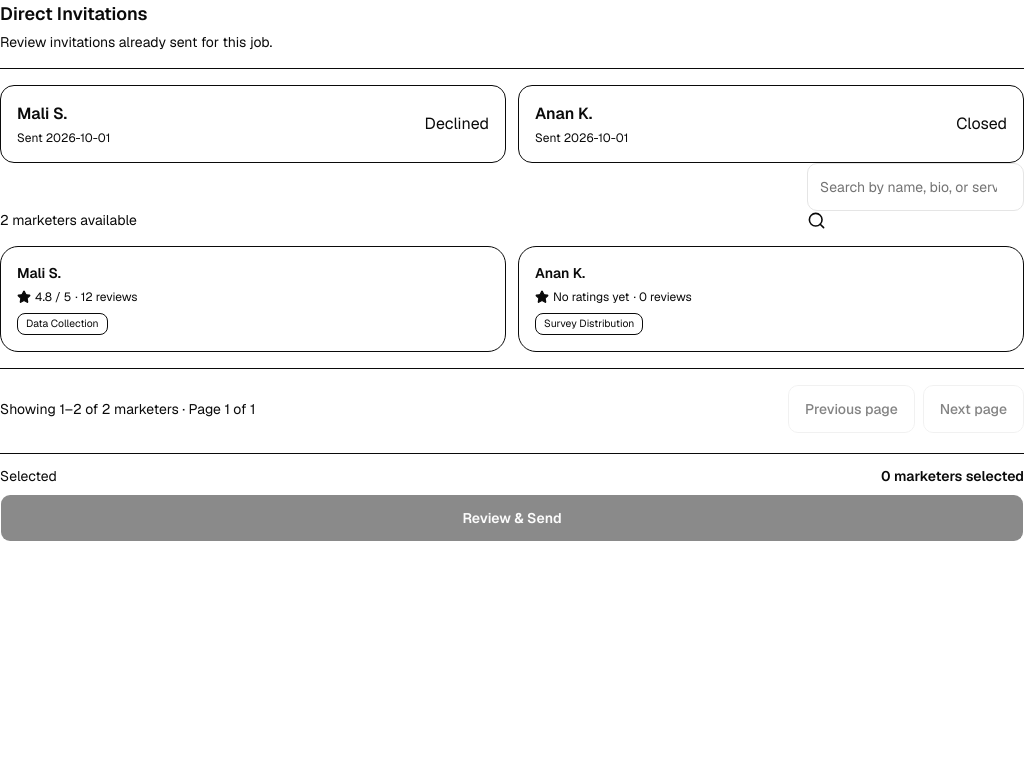
Scenario: JobInviteSelector › allows declined and closed invitations to be resent
Expected: the checkbox named "Select Anan K." is enabled, [518,246,1023,352]
Click the checkbox named "Select Mali S." at (39, 273), box [0,246,506,352]
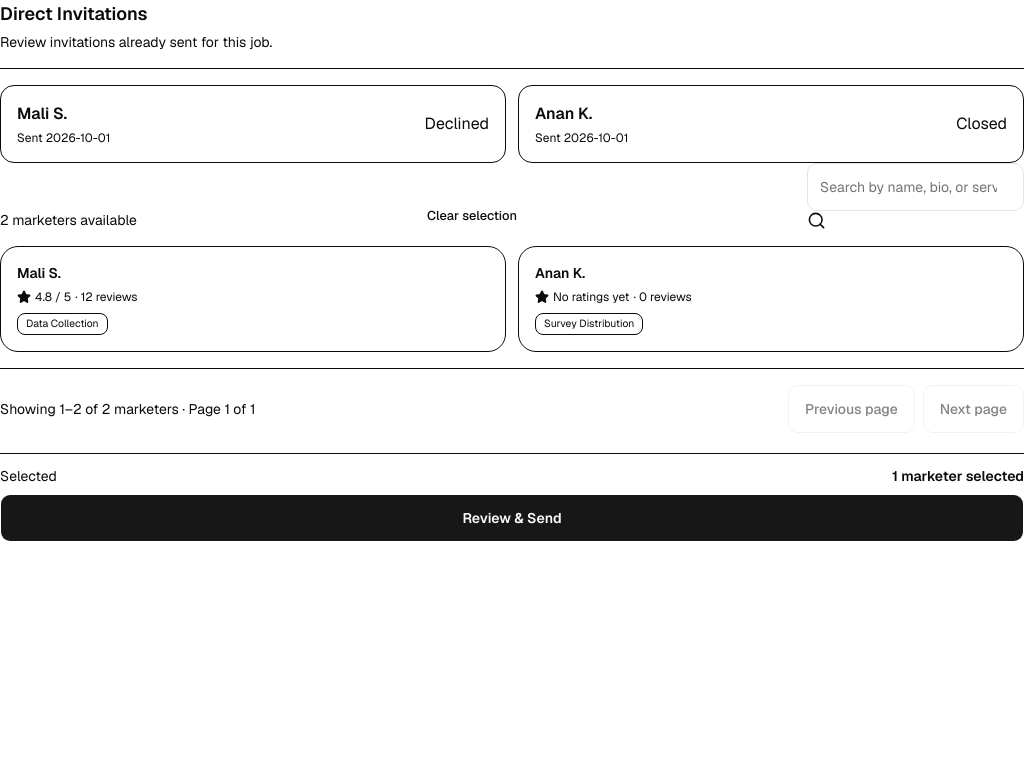
Click the checkbox named "Select Anan K." at (560, 273), box [518,246,1023,352]
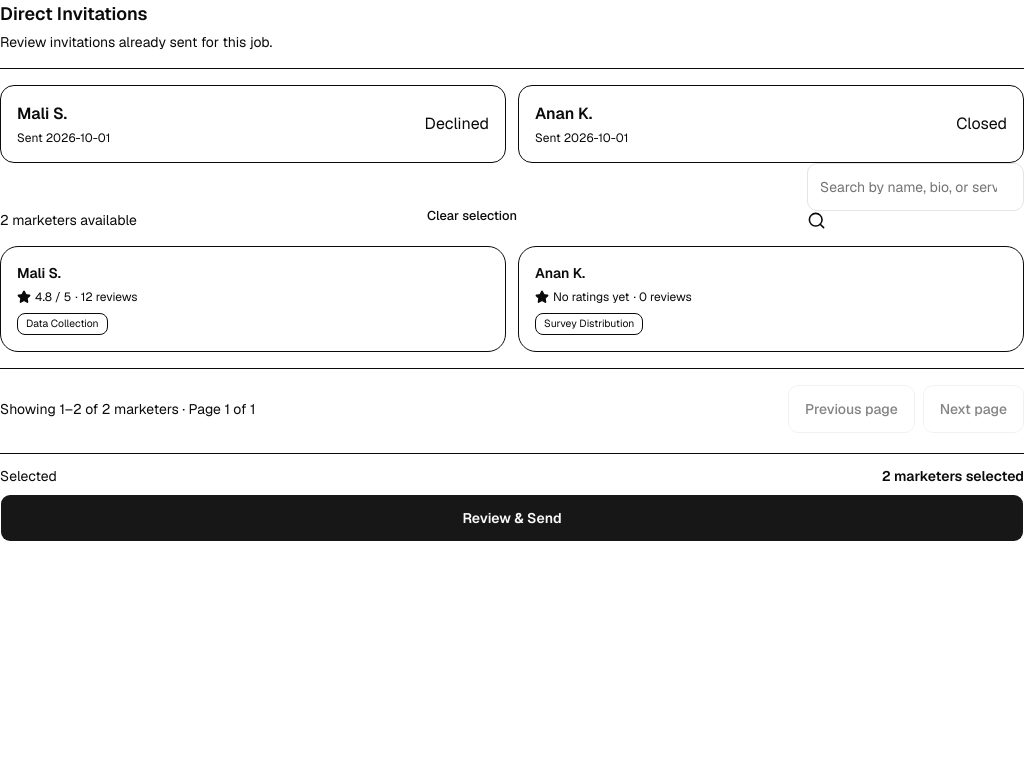
Expected: the checkbox named "Select Mali S." is checked, [0,246,506,352]
Click the button "Review & Send" at (512, 518), box [0,494,1023,542]
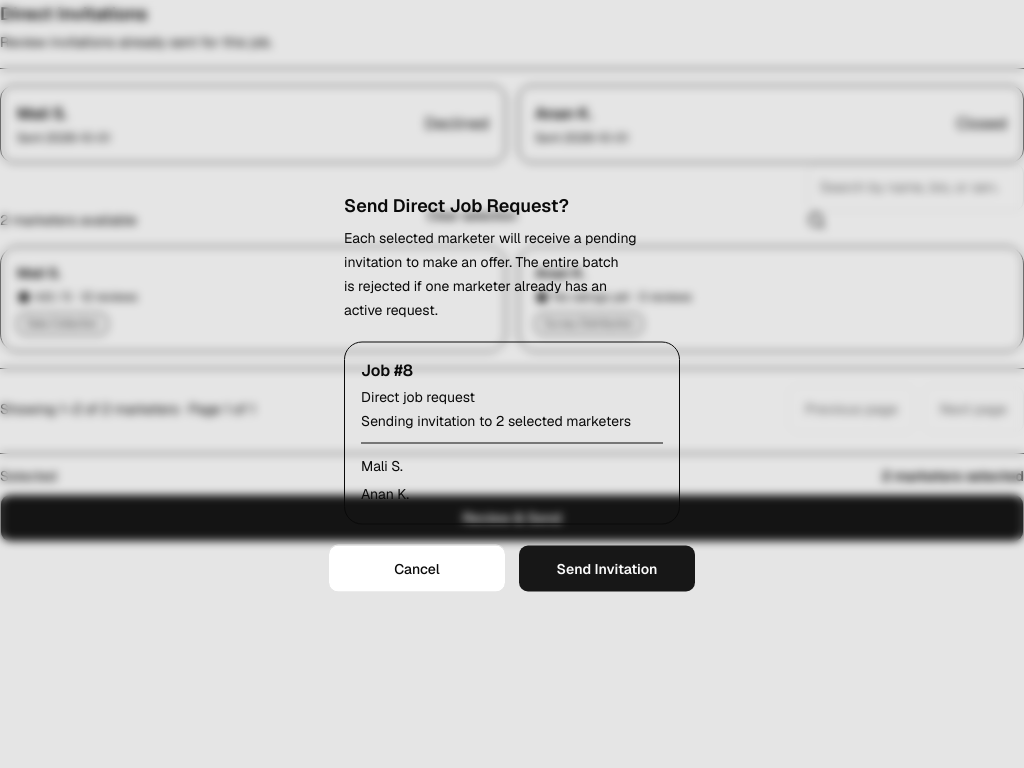
Click the button "Send Invitation" at (607, 568), box [518,544,696,592]
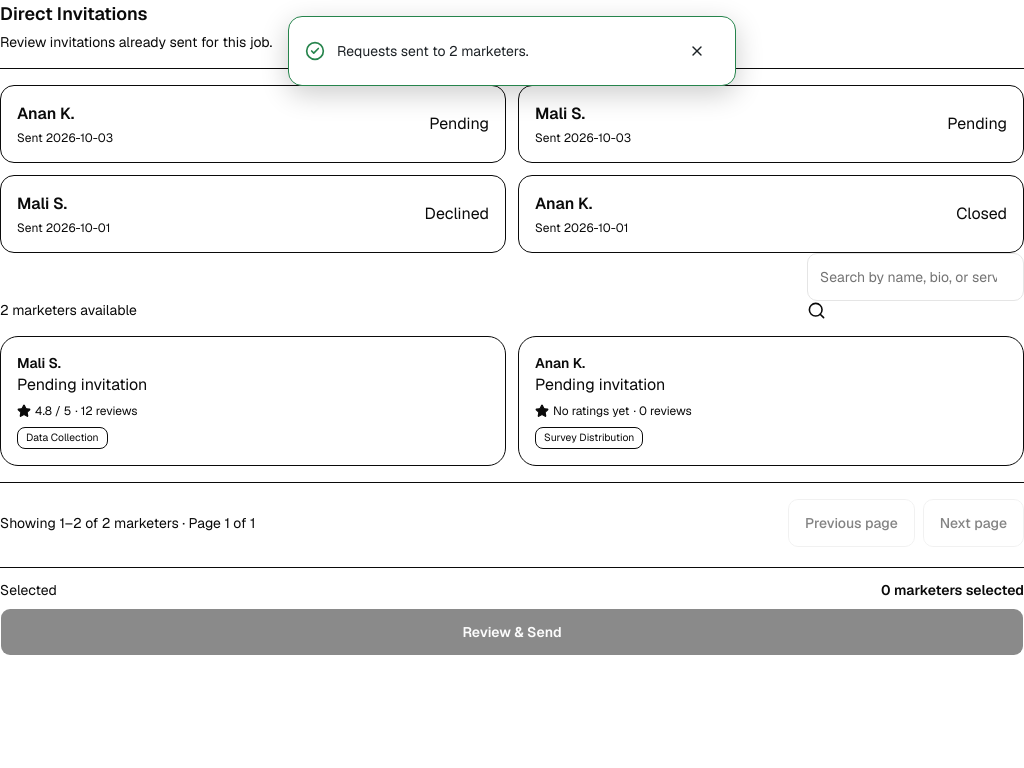
Now the text "Requests sent to 2 marketers." is shown, box [337,42,529,60]
